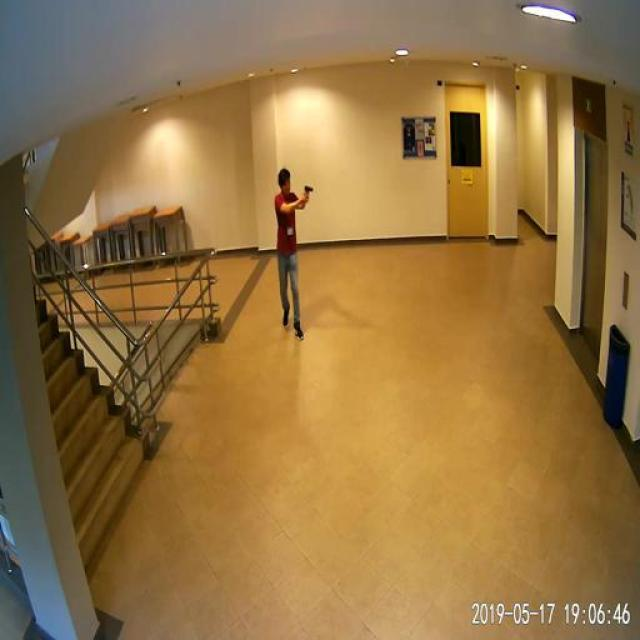Gun: (298, 174, 328, 217)
